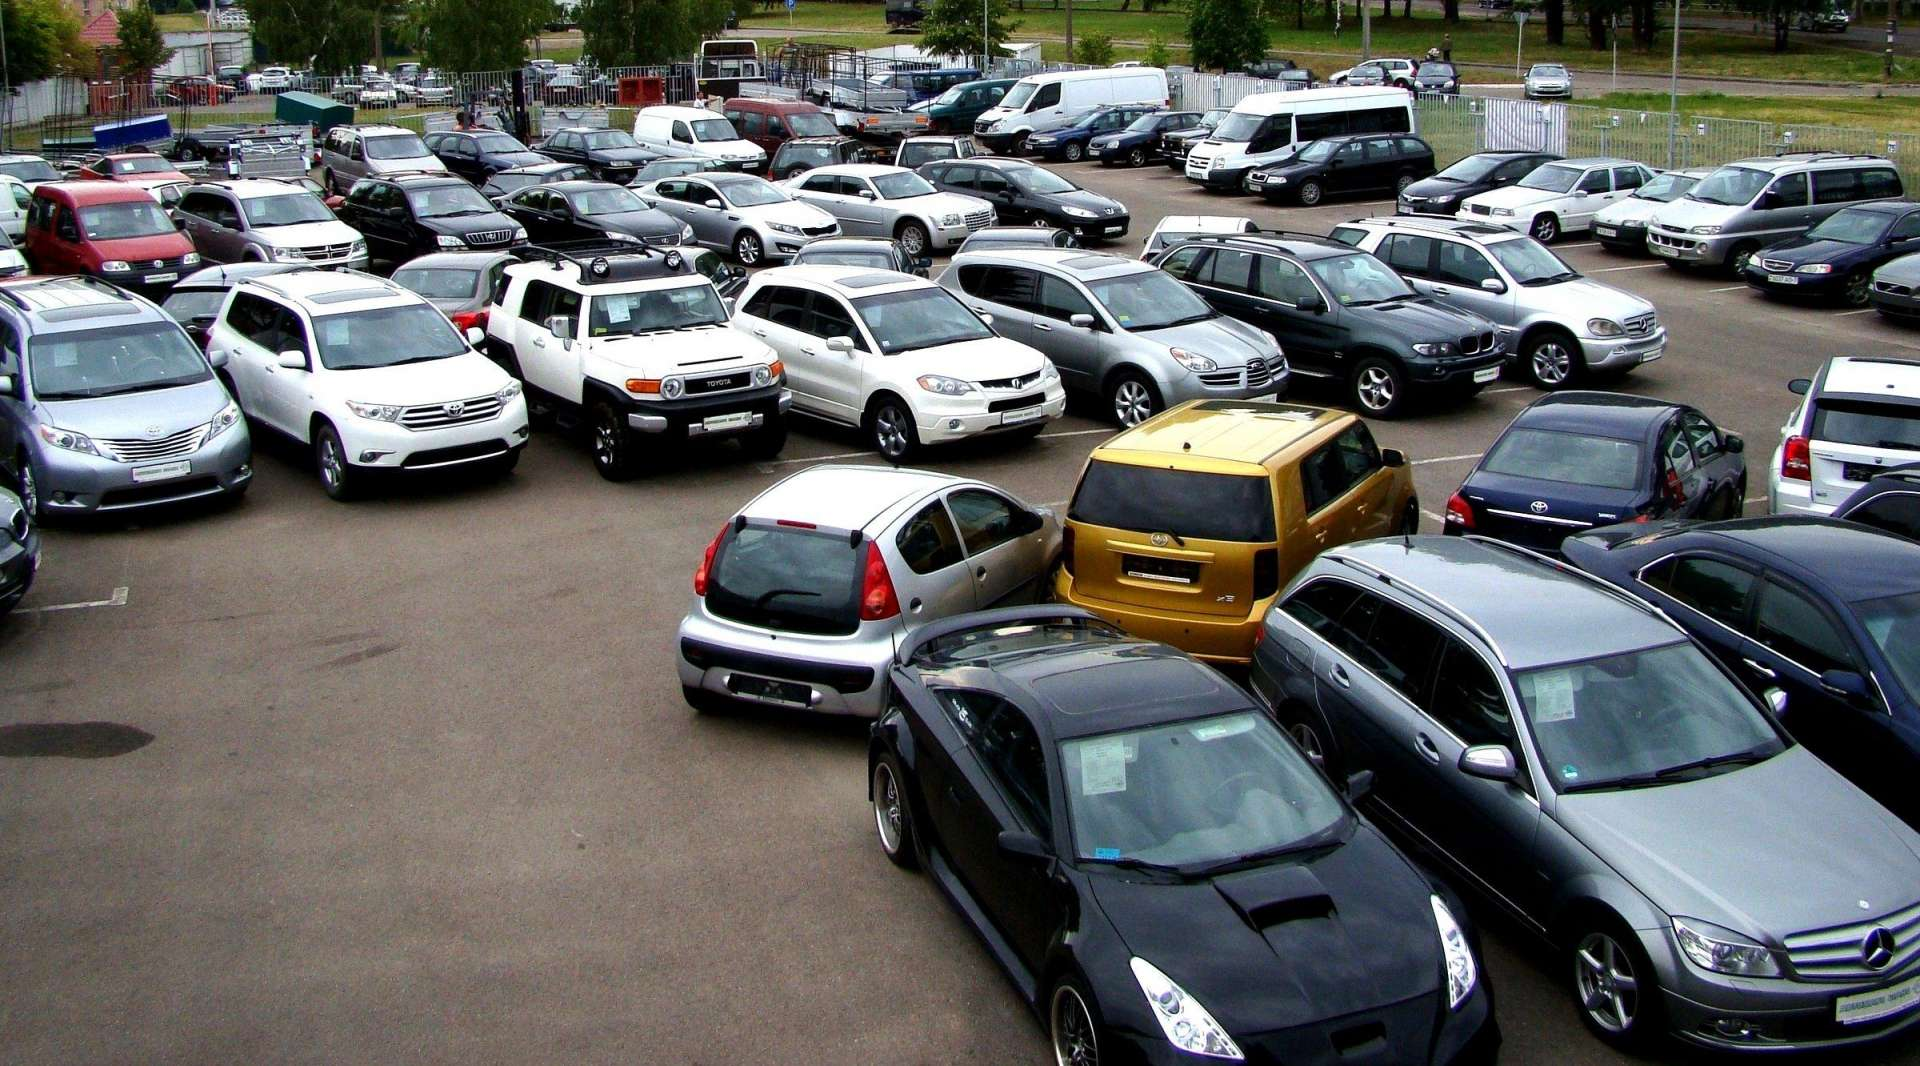Car: (1251, 536, 1920, 1054), (867, 607, 1500, 1066), (1560, 517, 1920, 828), (1056, 400, 1421, 671), (676, 463, 1060, 719), (205, 270, 529, 500), (486, 239, 789, 479), (734, 264, 1066, 462), (934, 247, 1290, 429), (1155, 232, 1504, 417), (0, 274, 253, 519), (1329, 217, 1667, 389), (1444, 391, 1747, 561), (1647, 155, 1906, 273), (1185, 85, 1417, 196), (1769, 357, 1920, 515), (26, 180, 201, 307), (773, 164, 1000, 257), (634, 172, 843, 266), (1455, 155, 1672, 243), (1743, 201, 1920, 306), (917, 156, 1130, 243), (340, 171, 529, 266), (171, 180, 369, 270), (972, 67, 1169, 158), (161, 261, 324, 353), (1243, 133, 1438, 207), (490, 180, 697, 248), (388, 251, 526, 337), (1395, 151, 1567, 219), (1591, 169, 1707, 253), (322, 123, 450, 194), (633, 106, 766, 171), (529, 127, 665, 186), (1026, 104, 1161, 163), (423, 130, 556, 189), (723, 98, 839, 163), (1085, 110, 1205, 169), (1831, 465, 1920, 544), (915, 77, 1021, 135), (791, 236, 930, 280), (0, 488, 43, 621), (1140, 215, 1259, 264), (1156, 105, 1235, 172), (660, 244, 747, 303), (769, 137, 871, 182), (480, 161, 602, 200), (870, 70, 980, 105), (1870, 253, 1920, 328), (954, 227, 1081, 255), (625, 158, 734, 189), (80, 152, 193, 182), (1327, 58, 1420, 91), (892, 135, 982, 169), (123, 179, 194, 215), (0, 154, 70, 190), (274, 176, 345, 211), (0, 175, 33, 251), (331, 76, 420, 104), (1522, 64, 1575, 102), (168, 75, 236, 104), (1413, 60, 1461, 98), (0, 230, 33, 280), (1798, 0, 1849, 32), (542, 76, 593, 105), (885, 0, 933, 28), (360, 79, 398, 110), (416, 76, 454, 108), (487, 80, 534, 105), (259, 67, 299, 95), (1165, 64, 1196, 98), (1243, 60, 1298, 79), (1346, 66, 1394, 87), (1276, 67, 1322, 88), (217, 66, 248, 95), (388, 63, 423, 87), (301, 71, 333, 92), (525, 66, 546, 98), (572, 55, 600, 80), (532, 59, 558, 83), (907, 93, 942, 110), (600, 79, 619, 104), (1478, 0, 1513, 9), (349, 66, 377, 76), (1110, 60, 1144, 68)
